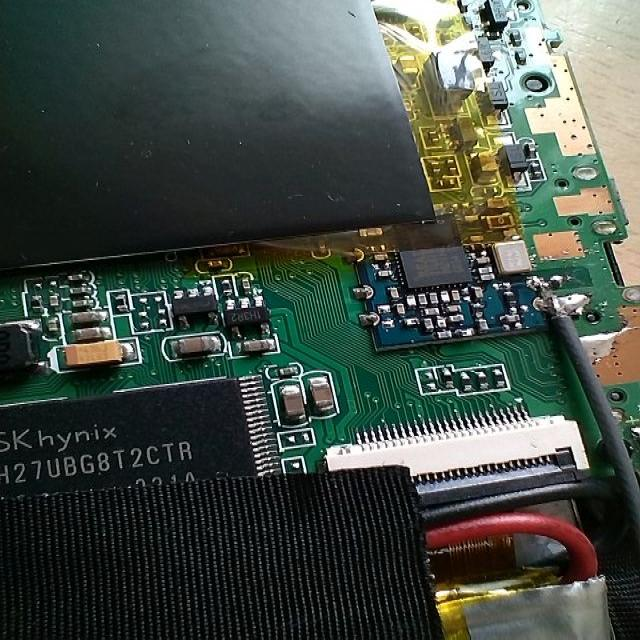capacitor: (162, 322, 232, 367), (299, 366, 350, 425), (273, 372, 316, 432), (234, 320, 282, 361)
